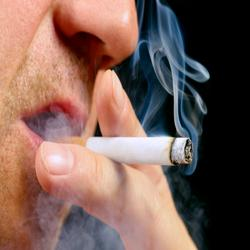smoking: (15, 92, 195, 173)
